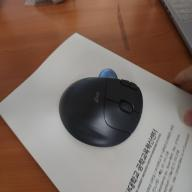mouse: (58, 67, 145, 148)
